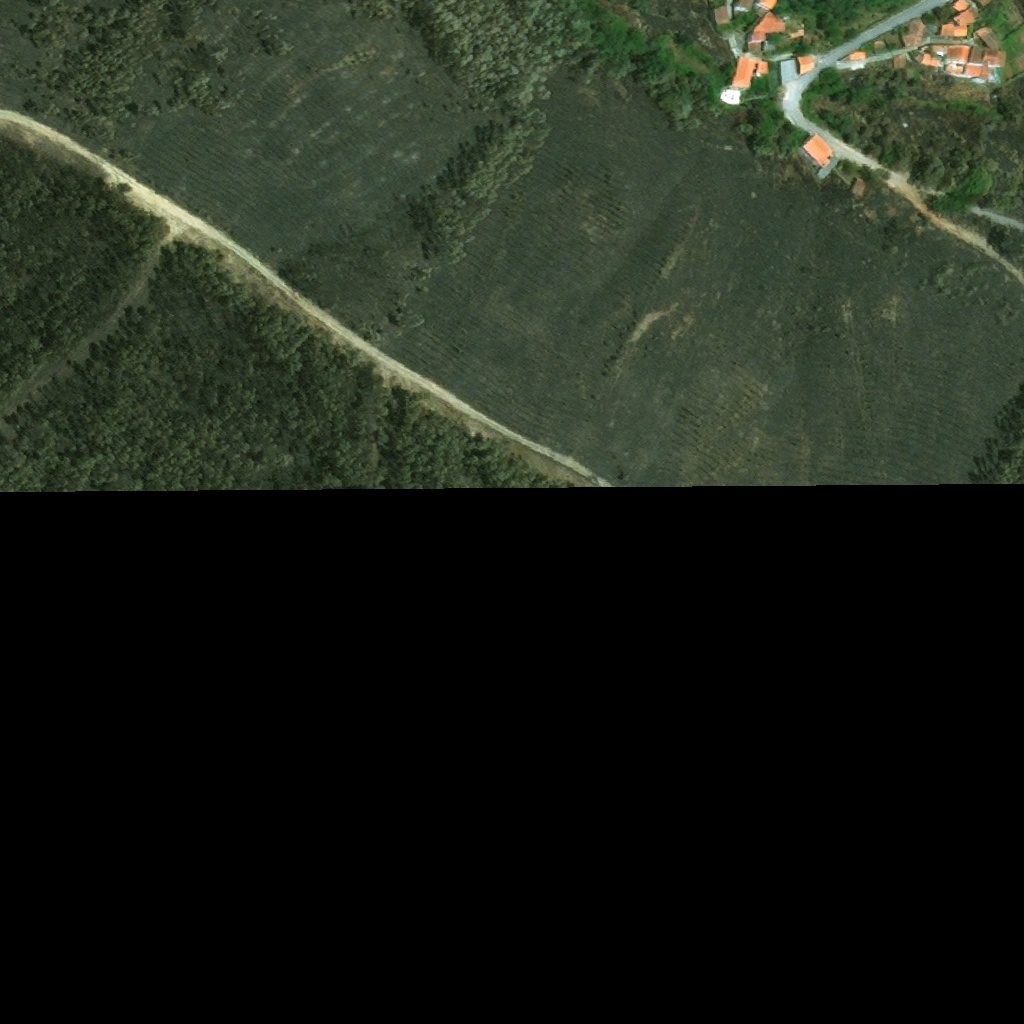0 no-damage: (967, 22, 1007, 66), (937, 0, 976, 37), (745, 11, 787, 44), (797, 133, 831, 171), (730, 56, 767, 90), (902, 18, 926, 47), (962, 64, 995, 81), (774, 60, 796, 85), (792, 53, 814, 76), (710, 5, 729, 27), (915, 53, 941, 69), (944, 45, 968, 62), (941, 63, 962, 76), (885, 33, 899, 48), (891, 57, 905, 70), (760, 41, 774, 53), (930, 46, 944, 58), (848, 52, 863, 62), (873, 40, 884, 50)
1 minor-damage: (842, 178, 865, 201)
3 destroyed: (723, 34, 742, 59)
4 un-classified: (733, 0, 754, 15), (757, 0, 777, 11), (975, 0, 991, 8), (707, 0, 722, 7)
